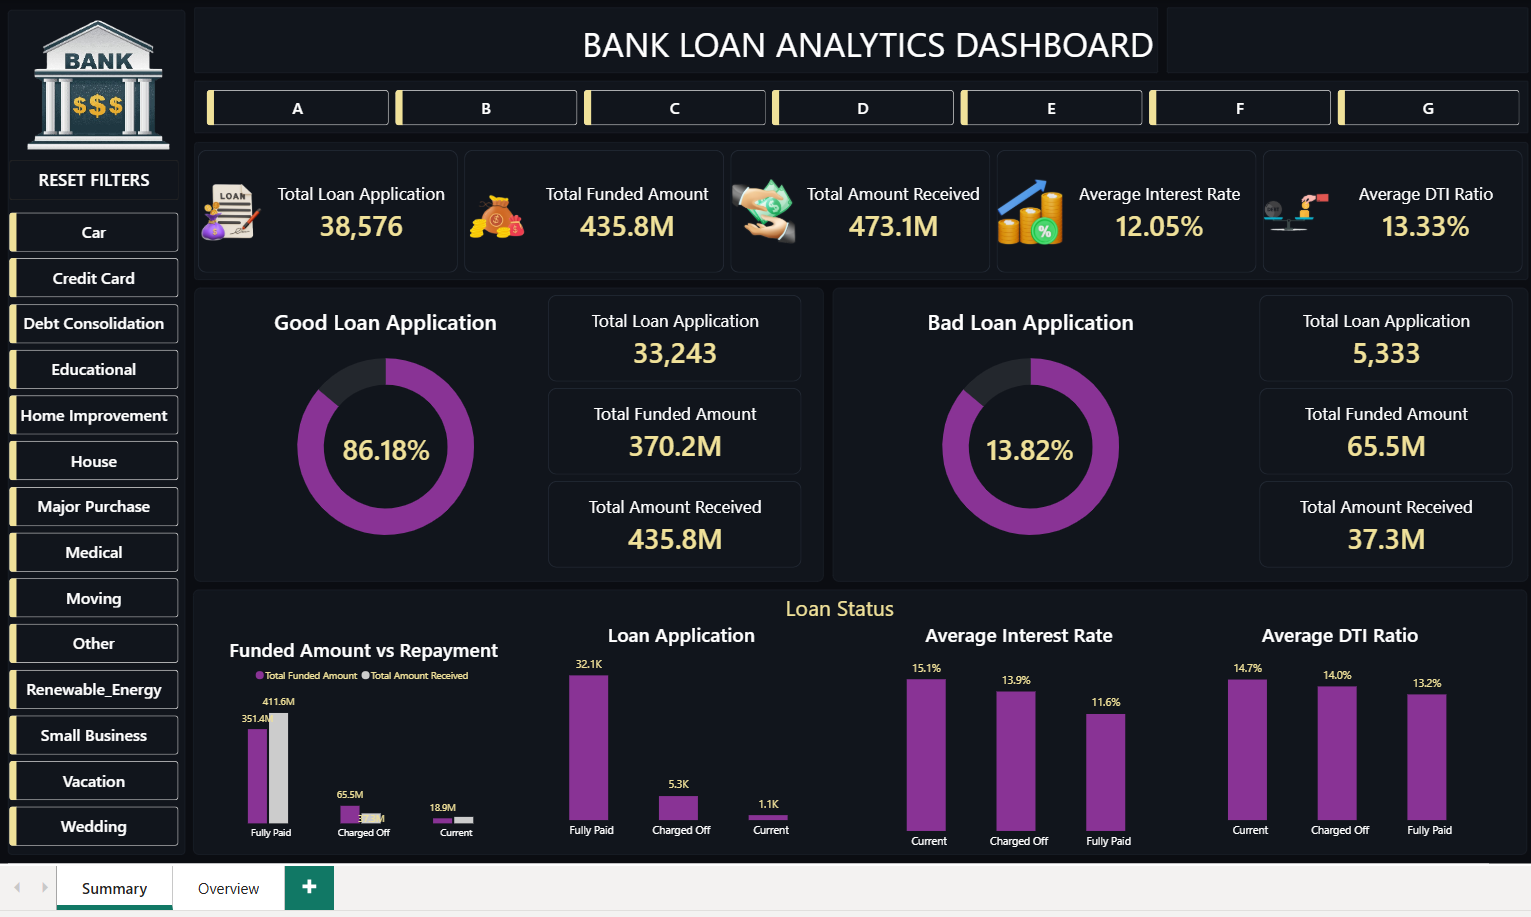

The page's visual inventory and layout, read from the dashboard file:
{"tool":"powerbi","page":{"name":"Summary","canvas":[1920,1080],"ordinal":0},"visuals":[{"type":"cardVisual","fields":{"Data":["financial_loan.Total Loan Application","financial_loan.Total Funded Amount","financial_loan.Total Amount Received","financial_loan.Average Interest Rate","financial_loan.Average DTI Rate"]},"box":[250,187.8,1653.3,153.3],"z":0},{"type":"donutChart","title":"Good Loan Application","fields":{"Category":["financial_loan.Good_vs_Bad_Loan"],"Y":["financial_loan.Total Loan Application"]},"box":[272.9,368.6,421.4,342.9],"z":1000},{"type":"donutChart","title":"Bad Loan Application","fields":{"Category":["financial_loan.Good_vs_Bad_Loan"],"Y":["financial_loan.Total Loan Application"]},"box":[1077.1,368.6,421.4,342.9],"z":2000},{"type":"cardVisual","fields":{"Data":["financial_loan.Good Loan %"]},"box":[394.3,514.3,180,88.6],"z":3000},{"type":"cardVisual","fields":{"Data":["financial_loan.Bad Loan %"]},"box":[1197.1,514.3,180,88.6],"z":4000},{"type":"cardVisual","fields":{"Data":["financial_loan.Total Loan Application","financial_loan.Total Funded Amount","financial_loan.Total Amount Received"],"Rows":["financial_loan.Good_vs_Bad_Loan"]},"box":[651.4,368.6,350,342.9],"z":5000},{"type":"cardVisual","fields":{"Data":["financial_loan.Total Loan Application","financial_loan.Total Funded Amount","financial_loan.Total Amount Received"],"Rows":["financial_loan.Good_vs_Bad_Loan"]},"box":[1538.6,368.6,350,342.9],"z":6000},{"type":"clusteredColumnChart","title":"Funded Amount vs Repayment","fields":{"Category":["financial_loan.LOAN_STATUS"],"Y":["financial_loan.Total Funded Amount","financial_loan.Total Amount Received"]},"box":[250,761.4,412.9,305.7],"z":7000},{"type":"clusteredColumnChart","title":"Loan Application","fields":{"Category":["financial_loan.LOAN_STATUS"],"Y":["financial_loan.Total Loan Application"]},"box":[651.2,761.2,401.2,305],"z":8000},{"type":"textbox","box":[941.2,747.5,222.5,112.5],"z":9000},{"type":"clusteredColumnChart","title":"Average Interest Rate","fields":{"Category":["financial_loan.LOAN_STATUS"],"Y":["financial_loan.Average Interest Rate"]},"box":[1072.9,761.4,401.4,318.6],"z":10000},{"type":"clusteredColumnChart","title":"Average DTI Ratio","fields":{"Category":["financial_loan.LOAN_STATUS"],"Y":["financial_loan.Average DTI Ratio"]},"box":[1473.8,761.2,401.2,305],"z":11000},{"type":"image","box":[0,0,250,210],"z":12000},{"type":"advancedSlicerVisual","fields":{"Values":["financial_loan.PURPOSE"]},"box":[14.3,264.3,211.4,802.9],"z":13000},{"type":"advancedSlicerVisual","fields":{"Values":["financial_loan.GRADE"]},"box":[260,113,1643,44],"z":14000},{"type":"actionButton","box":[14.3,200,211.4,50],"z":15000},{"type":"textbox","box":[249.4,24.4,1670.9,68],"z":16000}]}

Visuals, with their boxes on the page's 1920x1080 design canvas (x1, y1, x2, y2). These are canvas units, not pixel positions in the 1531x917 screenshot, which may show the page scaled, cropped or inside an application window:
cardVisual - financial_loan.Total Loan Application x financial_loan.Total Funded Amount: box=[250, 188, 1903, 341]
"Good Loan Application" donutChart: box=[273, 369, 694, 712]
"Bad Loan Application" donutChart: box=[1077, 369, 1498, 712]
cardVisual - financial_loan.Good Loan %: box=[394, 514, 574, 603]
cardVisual - financial_loan.Bad Loan %: box=[1197, 514, 1377, 603]
cardVisual - financial_loan.Total Loan Application x financial_loan.Total Funded Amount: box=[651, 369, 1001, 712]
cardVisual - financial_loan.Total Loan Application x financial_loan.Total Funded Amount: box=[1539, 369, 1889, 712]
"Funded Amount vs Repayment" clusteredColumnChart: box=[250, 761, 663, 1067]
"Loan Application" clusteredColumnChart: box=[651, 761, 1052, 1066]
textbox: box=[941, 748, 1164, 860]
"Average Interest Rate" clusteredColumnChart: box=[1073, 761, 1474, 1080]
"Average DTI Ratio" clusteredColumnChart: box=[1474, 761, 1875, 1066]
image: box=[0, 0, 250, 210]
advancedSlicerVisual - financial_loan.PURPOSE: box=[14, 264, 226, 1067]
advancedSlicerVisual - financial_loan.GRADE: box=[260, 113, 1903, 157]
actionButton: box=[14, 200, 226, 250]
textbox: box=[249, 24, 1920, 92]
